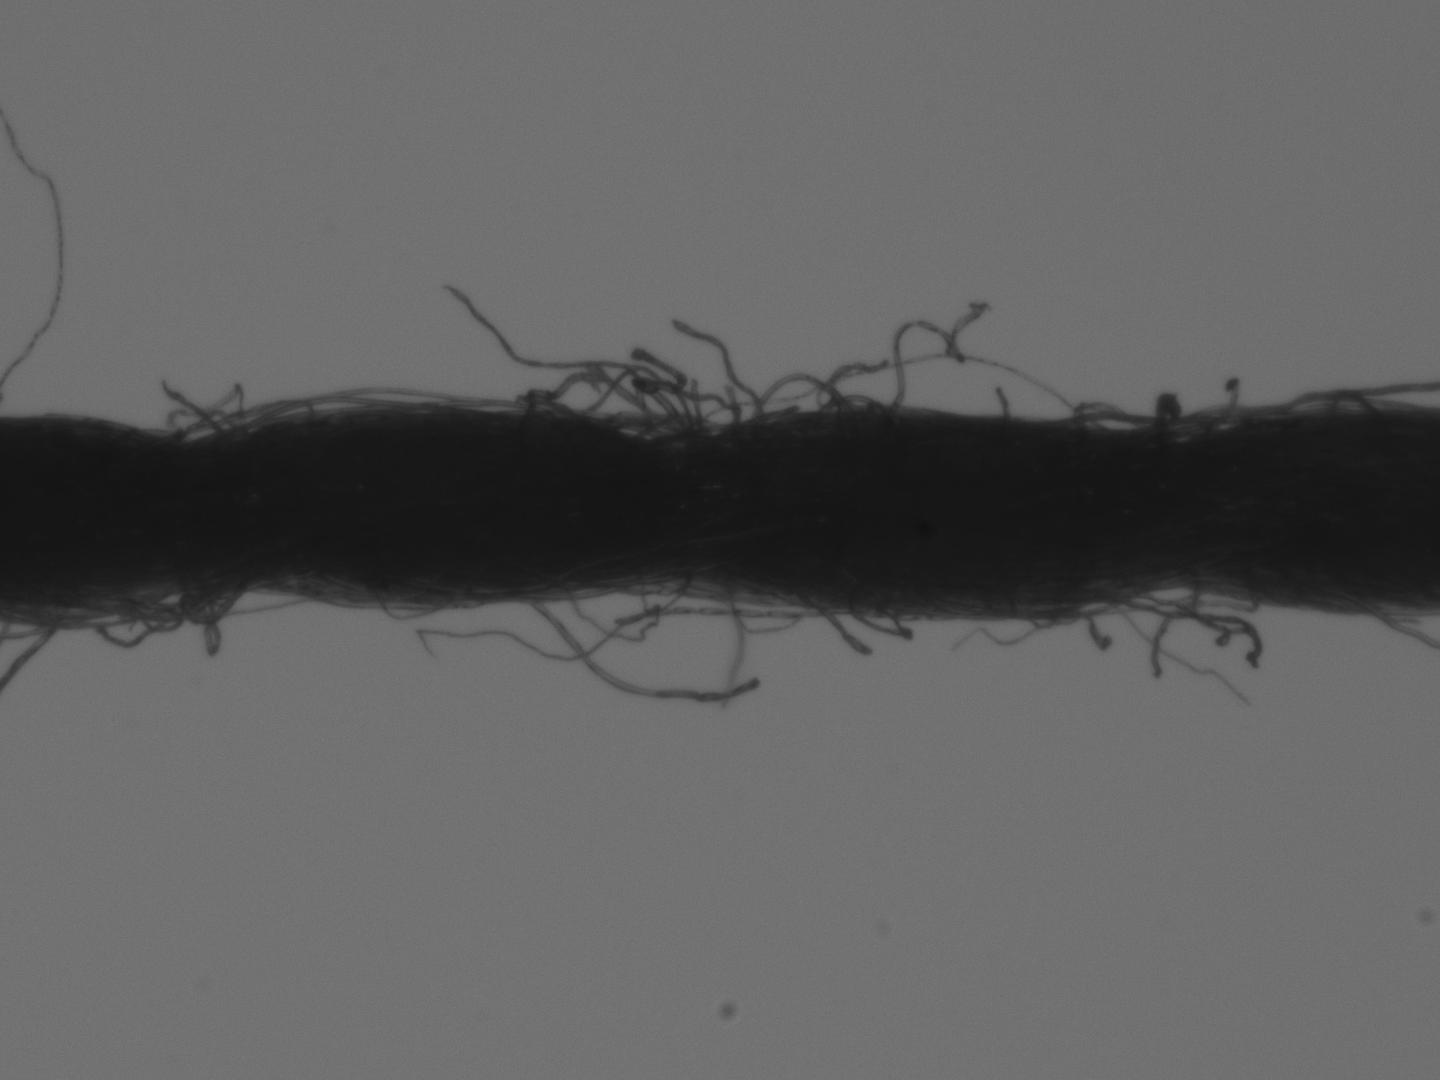loop_fiber: (701, 349, 1104, 431), (1061, 395, 1264, 437), (168, 395, 305, 441), (747, 369, 848, 424), (175, 582, 249, 655), (1250, 386, 1382, 424), (1102, 581, 1203, 621), (593, 404, 693, 438), (842, 605, 913, 642), (808, 390, 890, 421)
protruding_fiber: (989, 381, 1010, 423)
